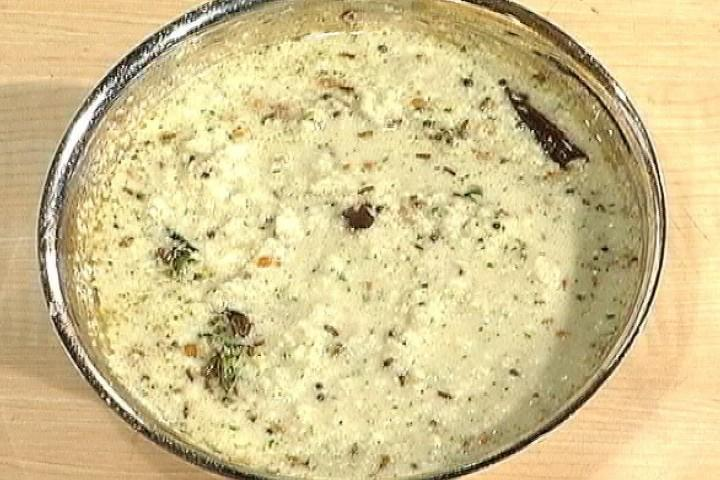CoconutChutney: (75, 29, 641, 480)
